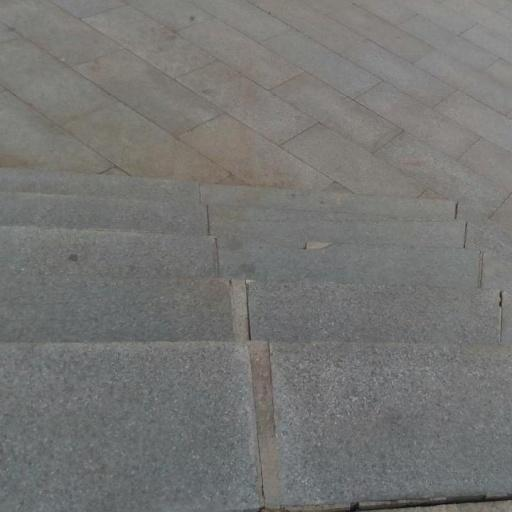stairs: (0, 170, 511, 511)
